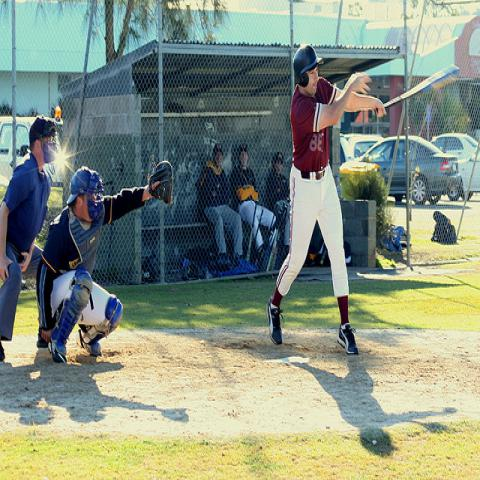car: (345, 134, 459, 206), (430, 133, 479, 202), (0, 122, 31, 154), (348, 135, 384, 158)
